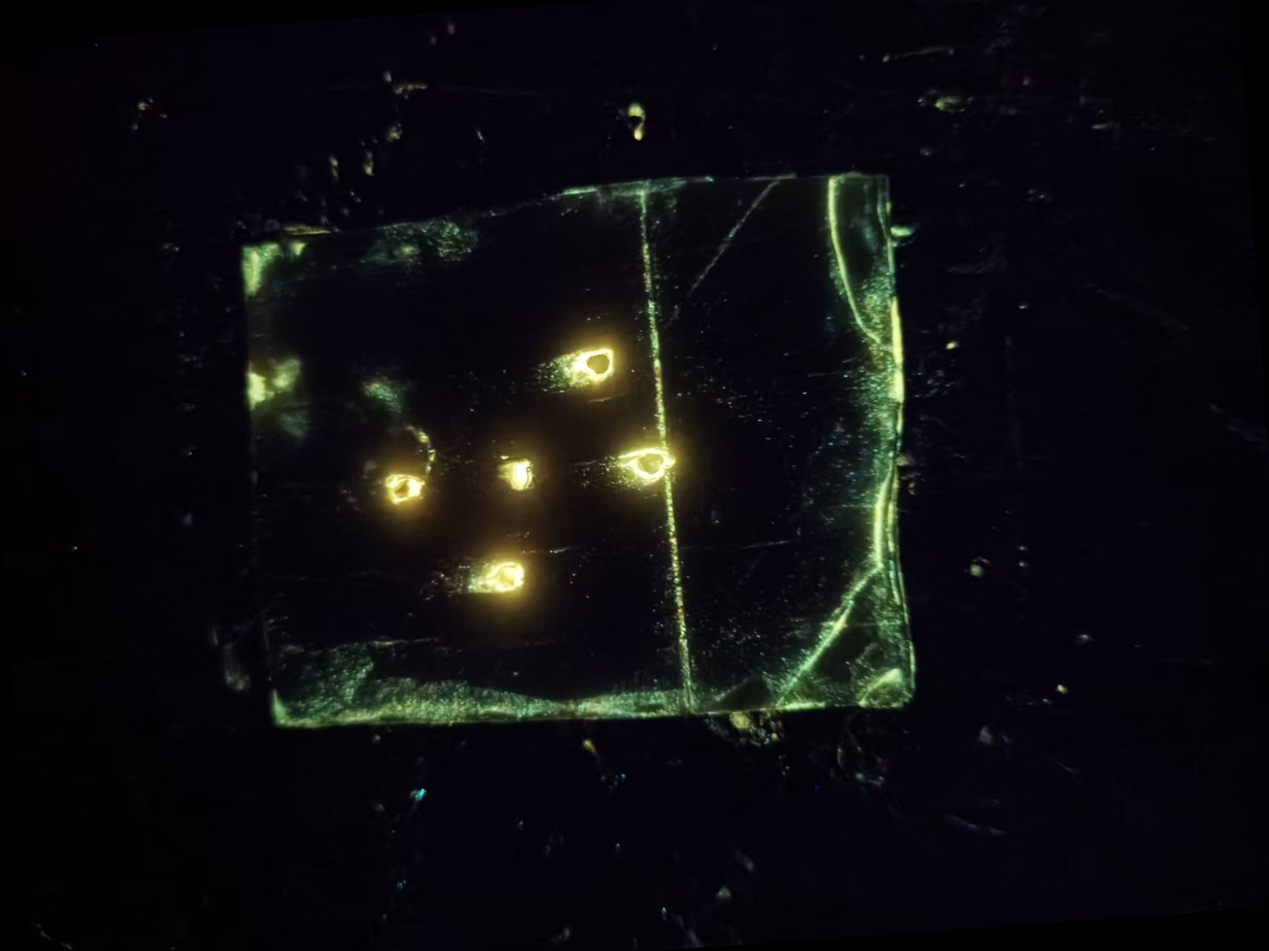Crater: (428, 540, 558, 620), (371, 446, 462, 526), (477, 437, 563, 517), (601, 432, 683, 501), (557, 332, 633, 405)
